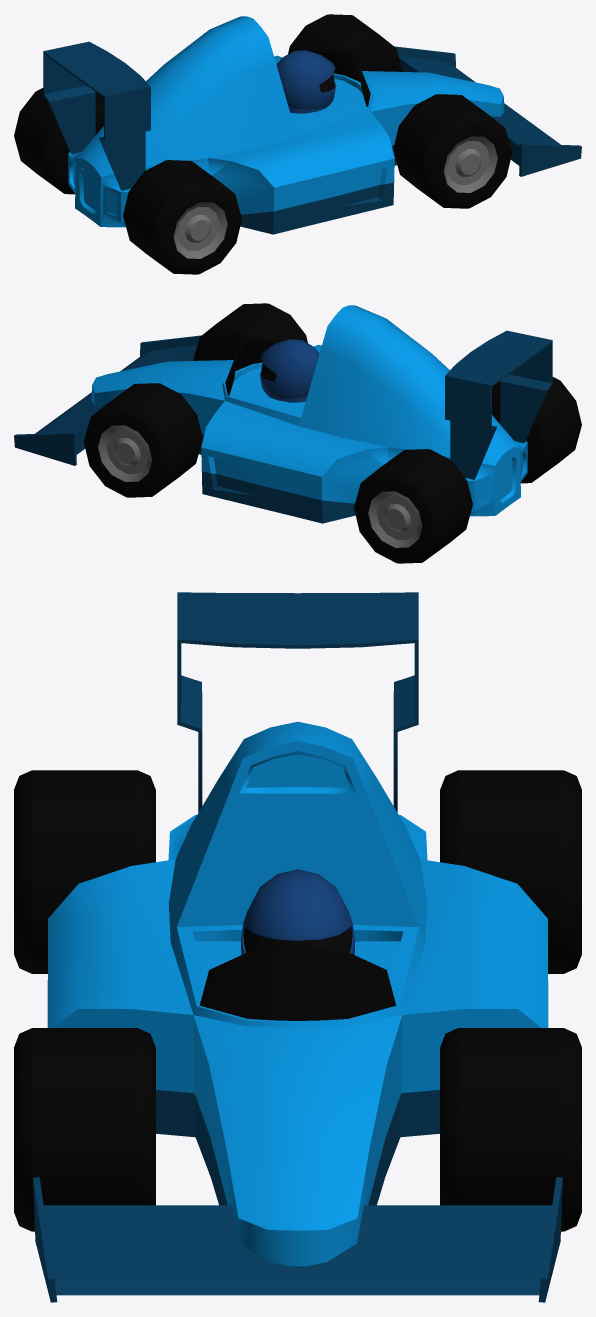
The model's file is f1_lowpoly.fbx.
The picture shows the model from 3 angles, top to bottom: view 1: azimuth 30°, elevation 25°; view 2: azimuth 150°, elevation 25°; view 3: azimuth 270°, elevation 25°; orthographic projection. The views are drawn at different scales.
Parts seen in each view (by area): view 1: body, wheel_front_right., wheel_back_right., wheel_back_left, wheel_front_left; view 2: body, wheel_front_left, wheel_back_left, wheel_back_right., wheel_front_right.; view 3: body, wheel_front_right., wheel_front_left, wheel_back_right., wheel_back_left.
Boxes of the visible parts, x1=… form: body: x1=43, y1=16, x2=581, y2=234; wheel_front_right.: x1=393, y1=94, x2=512, y2=208; wheel_back_right.: x1=123, y1=160, x2=241, y2=274; wheel_back_left: x1=14, y1=88, x2=103, y2=194; wheel_front_left: x1=288, y1=14, x2=402, y2=71; body: x1=14, y1=305, x2=552, y2=523; wheel_front_left: x1=83, y1=383, x2=202, y2=497; wheel_back_left: x1=354, y1=449, x2=472, y2=563; wheel_back_right.: x1=492, y1=377, x2=581, y2=483; wheel_front_right.: x1=193, y1=303, x2=307, y2=360; body: x1=33, y1=592, x2=562, y2=1302; wheel_front_right.: x1=14, y1=1028, x2=155, y2=1231; wheel_front_left: x1=440, y1=1028, x2=581, y2=1231; wheel_back_right.: x1=14, y1=770, x2=155, y2=973; wheel_back_left: x1=440, y1=770, x2=581, y2=973.
Bounding box in the file's own units: 1014 × 383 × 575.
